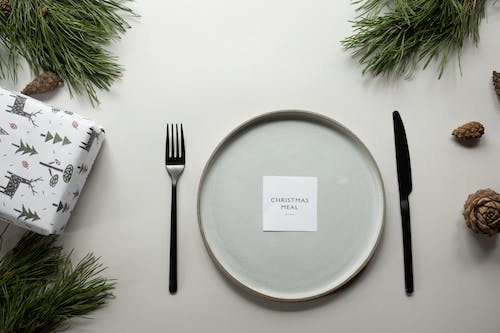knife: (391, 108, 417, 295)
